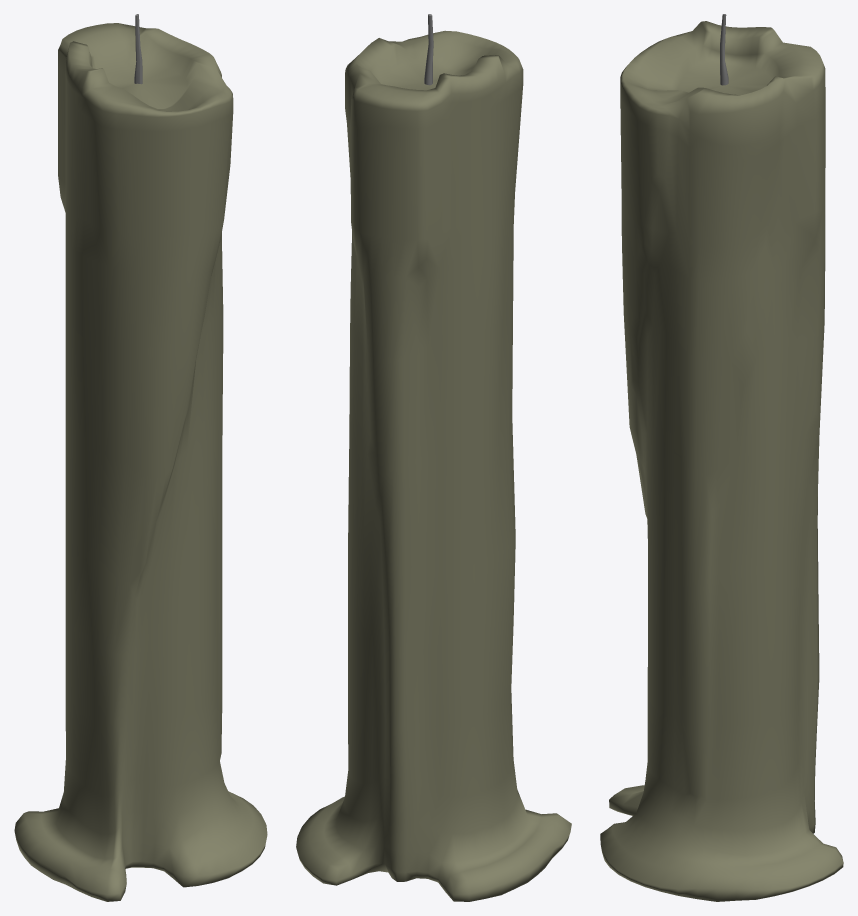
Rendered from Candle2.obj.
The picture shows the model from 3 angles, left to right: view 1: azimuth 30°, elevation 25°; view 2: azimuth 150°, elevation 25°; view 3: azimuth 270°, elevation 25°; orthographic projection.
Visible parts, largest first — view 1: pCylinder3 Candle2; view 2: pCylinder3 Candle2; view 3: pCylinder3 Candle2.
Boxes of the visible parts, x1,y1,x2,y2 form: pCylinder3 Candle2: (14,23,267,901); pCylinder3 Candle2: (296,30,571,901); pCylinder3 Candle2: (600,21,843,901).
Size of the model in its own units: 3.23 by 11.84 by 3.13.
